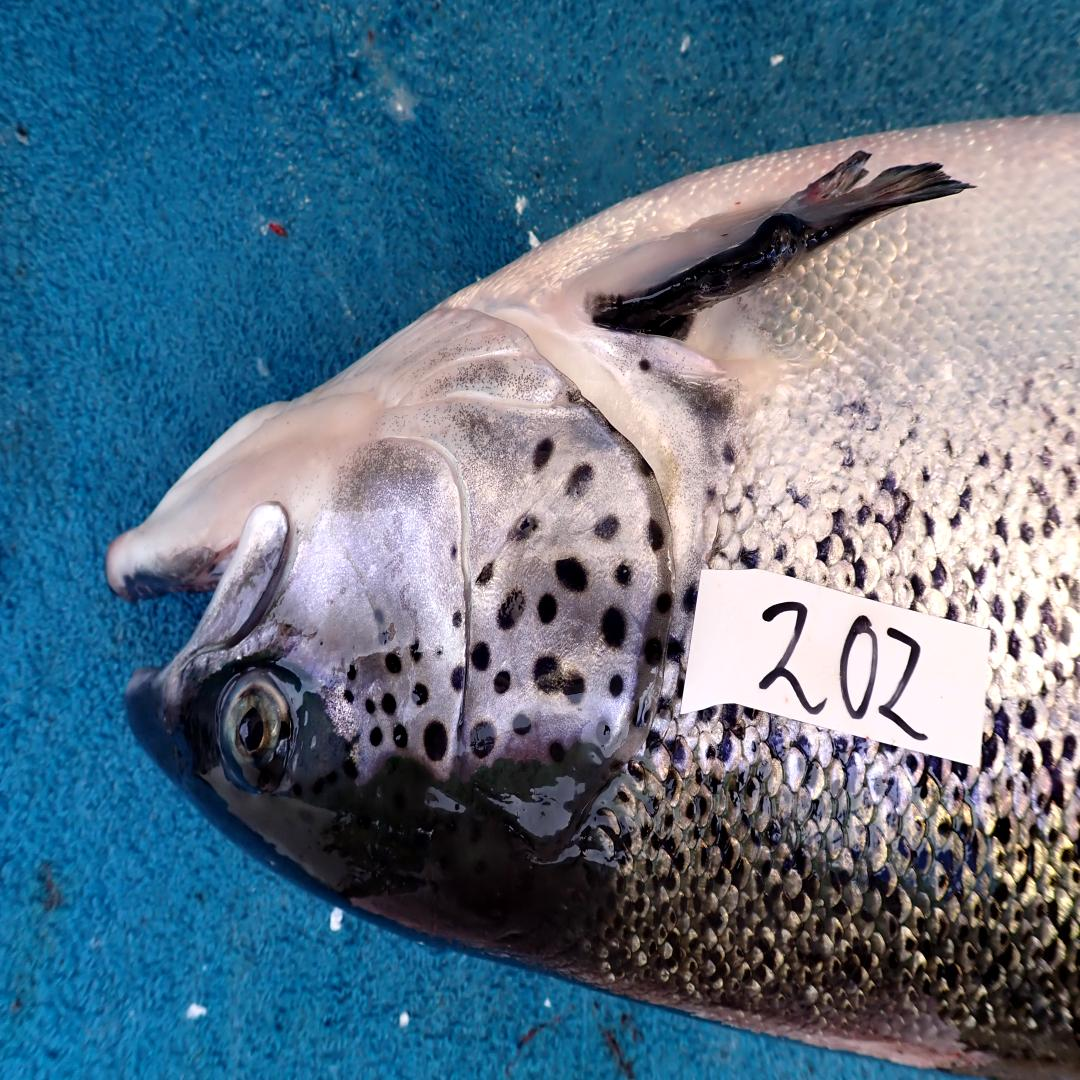roi: (284, 299, 676, 777)
